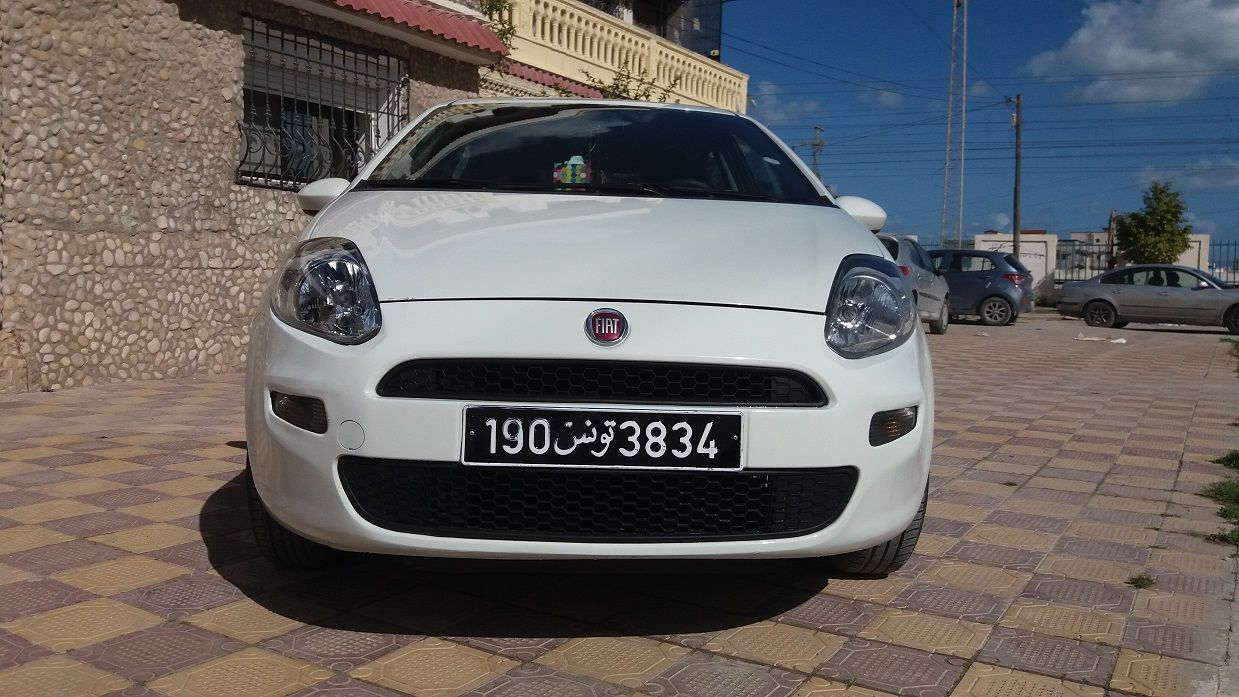LP: (458, 403, 747, 470)
